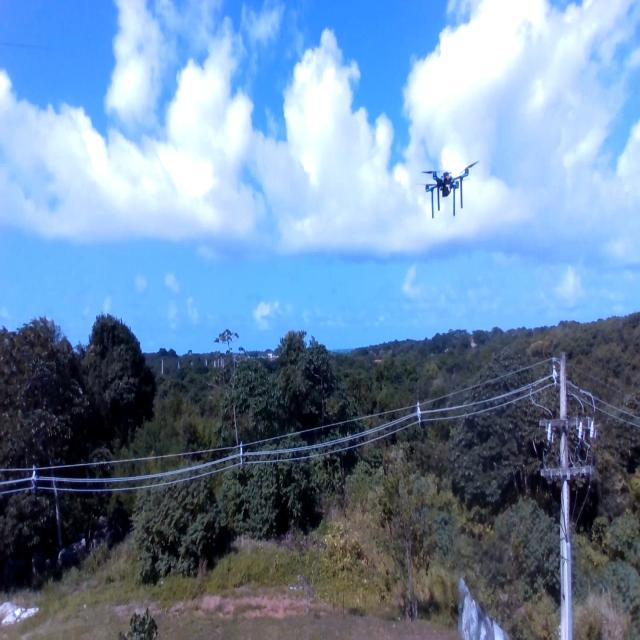-uav-: (418, 151, 486, 246)
